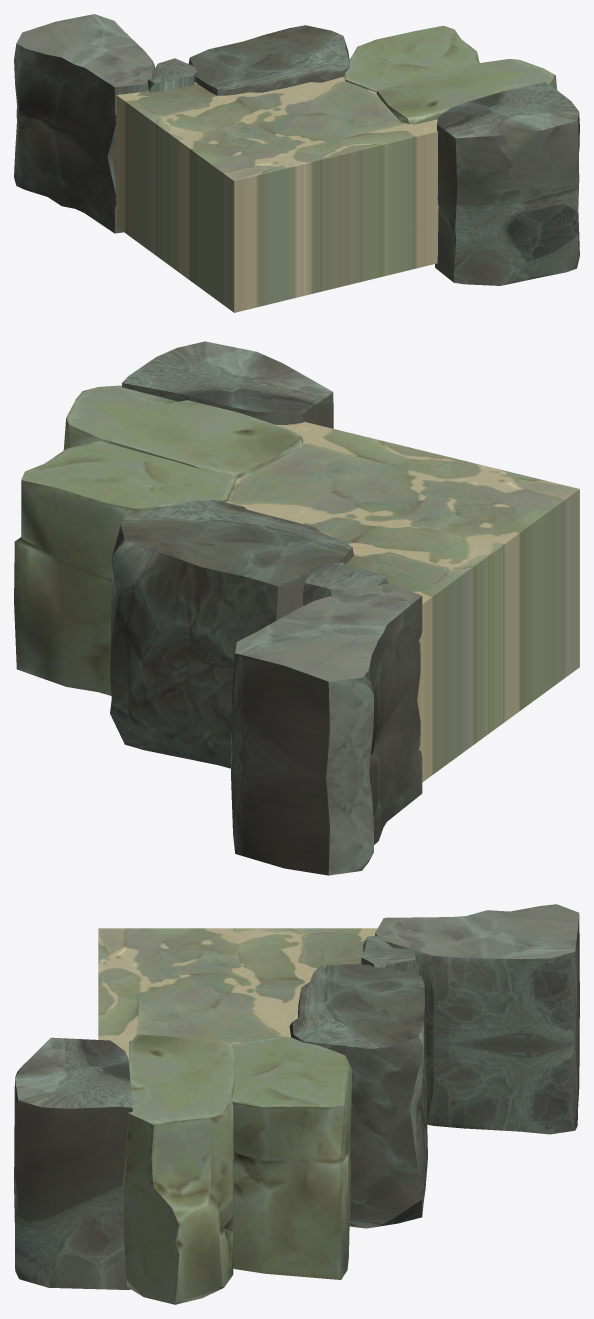
Rendered from Ruins_Wall_DMG_Center_BotRight_A.fbx.
3 views of the same model, one above another, from view 1: azimuth 30°, elevation 25°; view 2: azimuth 150°, elevation 25°; view 3: azimuth 270°, elevation 25° (orthographic). The views are drawn at different scales.
Parts seen in each view (by area): view 1: Ruins_Wall_DMG_Center_BotRight_A; view 2: Ruins_Wall_DMG_Center_BotRight_A; view 3: Ruins_Wall_DMG_Center_BotRight_A.
Boxes of the visible parts, x1,y1,x2,y2 form: Ruins_Wall_DMG_Center_BotRight_A: (14,14,579,312); Ruins_Wall_DMG_Center_BotRight_A: (14,341,579,875); Ruins_Wall_DMG_Center_BotRight_A: (14,904,579,1304).
Size of the model in its own units: 783 by 289 by 805.
